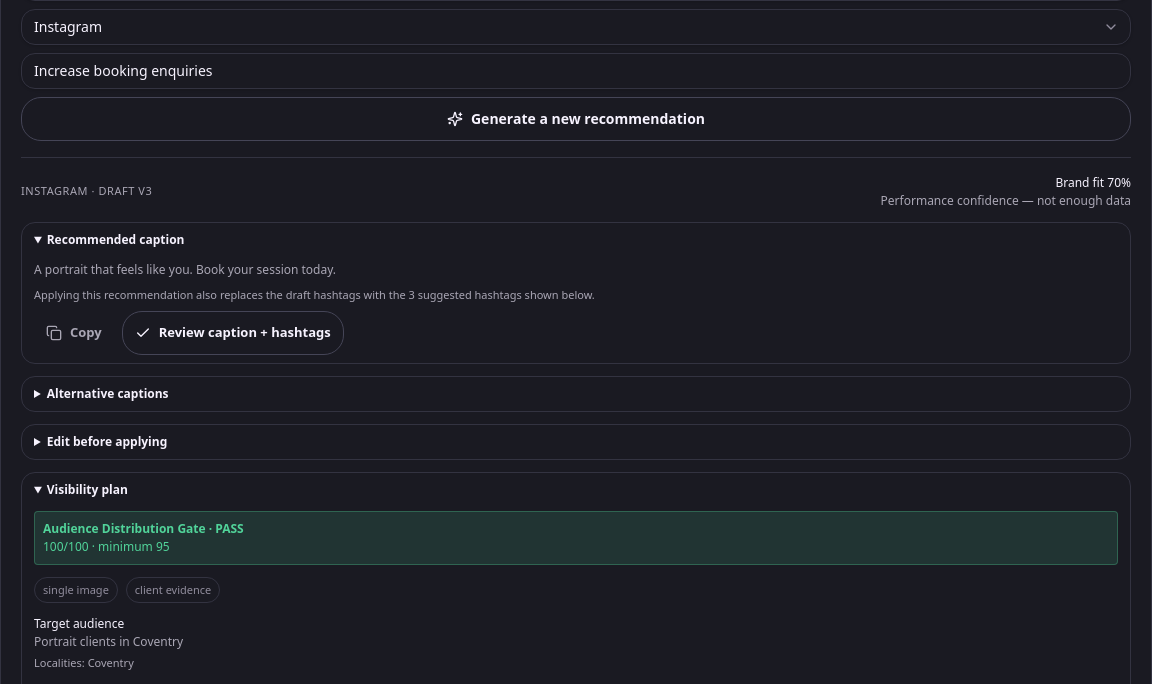
Test: EngagementIntelligencePanel › shows a before-and-after confirmation before replacing the saved draft
(page scrolled)
Expected: the text "also replaces the draft hashtags with the 3 suggested hashtags" is shown, [34,286,595,302]
What coordinates should you click on to do the following:
click the button "Review caption + hashtags"
I would click on:
 (233, 333)
Its box is [122,311,344,355].
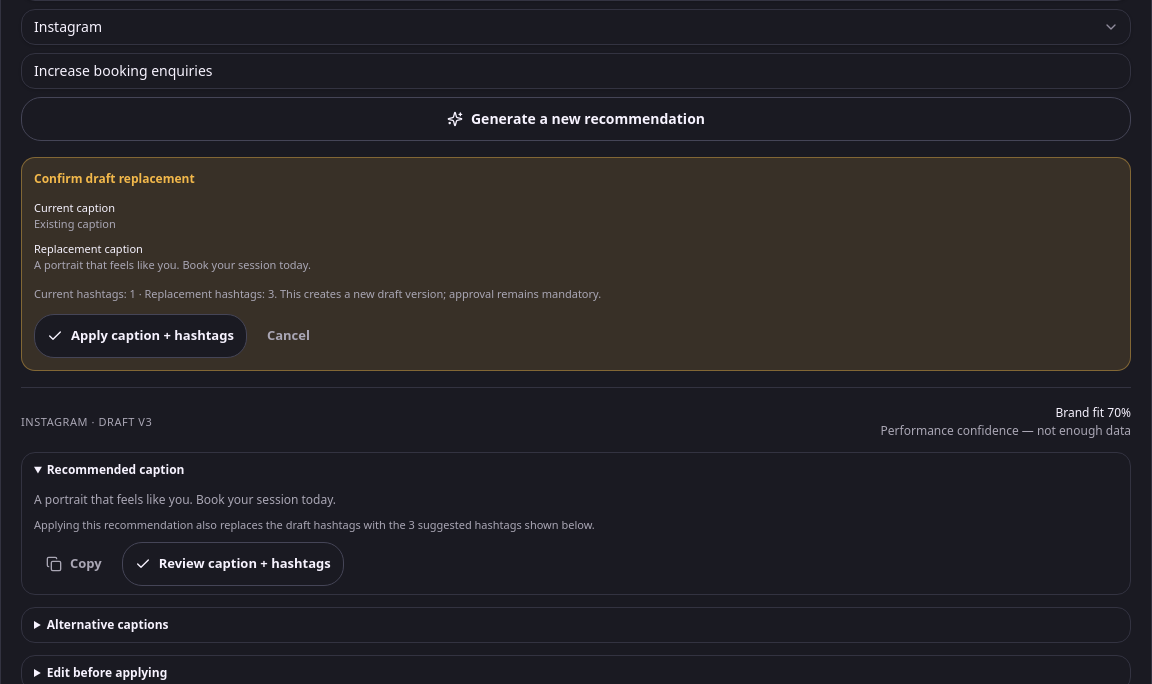
Expected: the heading "Confirm draft replacement" is shown, [34,170,195,186]
Expected: the text "Existing caption" is shown, [34,216,116,231]
Expected: the text "Current hashtags: 1 · Replacement hashtags: 3. This creates a new draft version; approval remains mandatory." is shown, [34,286,601,300]
